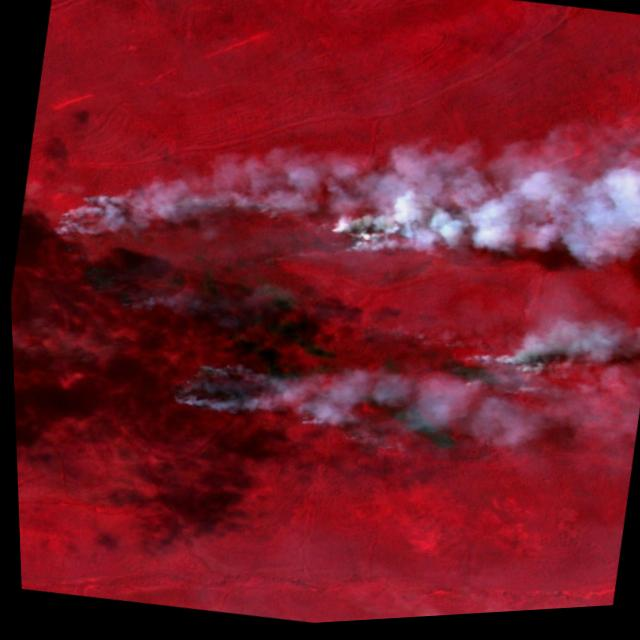fire: (11, 153, 549, 499)
